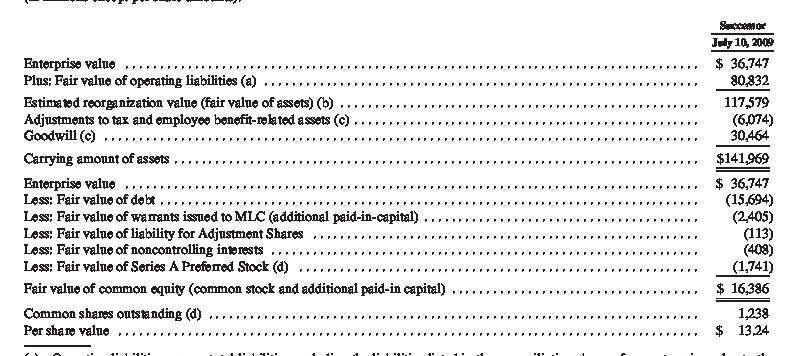table: (0, 0, 794, 356)
